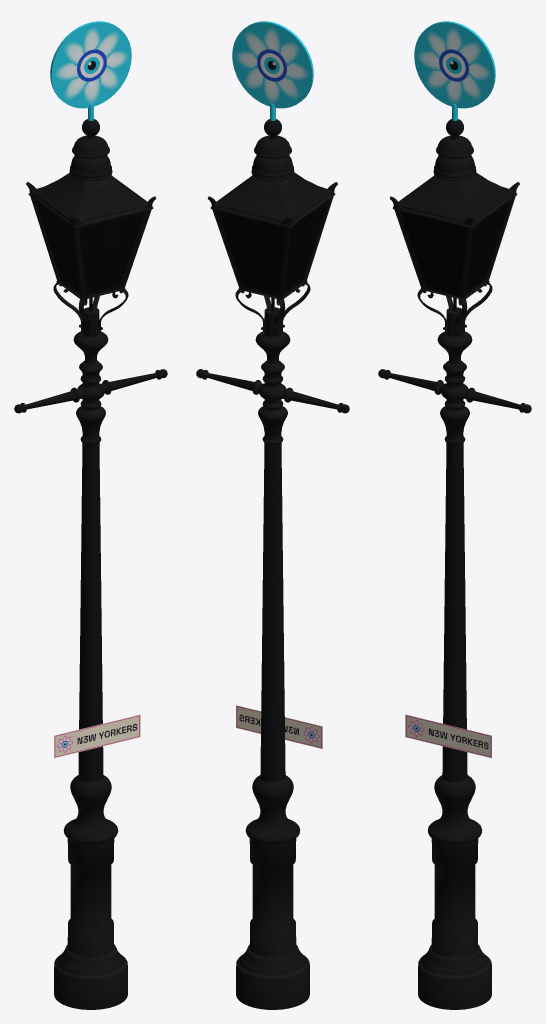
File: nyb_pigeons_lamp.glb
3 renders of one model, left to right at view 1: azimuth 30°, elevation 25°; view 2: azimuth 150°, elevation 25°; view 3: azimuth 330°, elevation 25°, orthographic.
Parts seen in each view (by area): view 1: street_lamp_01, add_eyeflower_cyan.png, Cylinder, stk_label_n3w.png; view 2: street_lamp_01, add_eyeflower_cyan.png, Cylinder, stk_label_n3w.png; view 3: street_lamp_01, add_eyeflower_cyan.png, Cylinder, stk_label_n3w.png.
Boxes of the visible parts, bbox=[...] form: street_lamp_01: bbox=[14, 119, 167, 1009]; add_eyeflower_cyan.png: bbox=[54, 26, 129, 104]; Cylinder: bbox=[50, 21, 131, 108]; stk_label_n3w.png: bbox=[54, 714, 140, 758]; street_lamp_01: bbox=[196, 119, 349, 1009]; add_eyeflower_cyan.png: bbox=[234, 26, 309, 104]; Cylinder: bbox=[232, 21, 313, 108]; stk_label_n3w.png: bbox=[236, 705, 322, 748]; street_lamp_01: bbox=[378, 119, 531, 1009]; add_eyeflower_cyan.png: bbox=[416, 26, 491, 104]; Cylinder: bbox=[414, 21, 495, 108]; stk_label_n3w.png: bbox=[405, 714, 491, 758].
Bounding box in the file's own units: 0.7043 × 4.3 × 0.3865.
7 materials, 5 textured.
